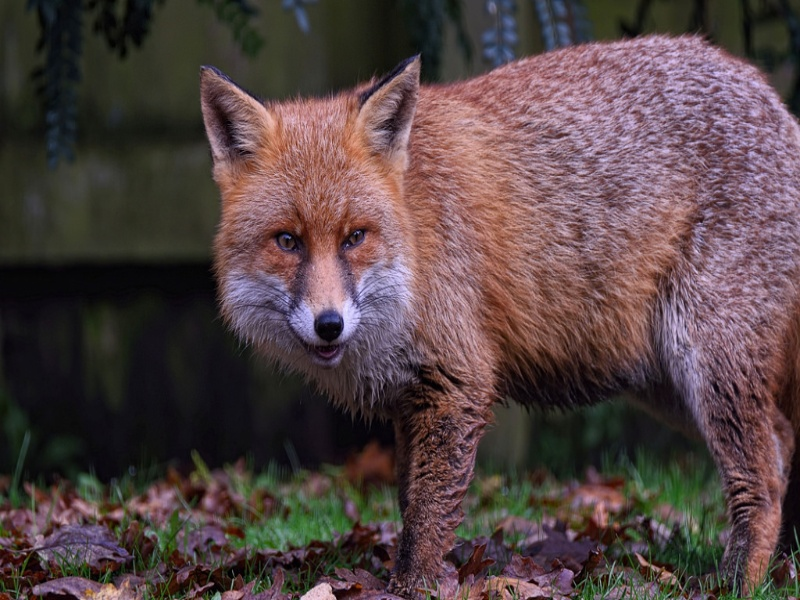fox: (196, 31, 800, 600)
